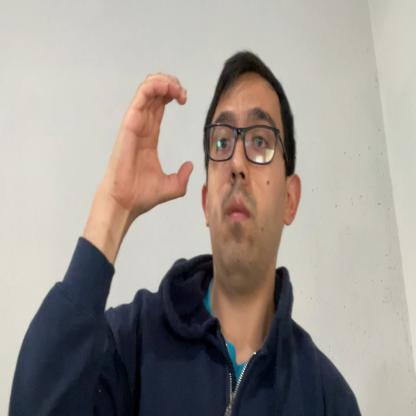C: (114, 73, 193, 209)
